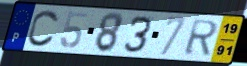3: (123, 15, 154, 54)
5: (59, 10, 90, 49)
7: (158, 15, 190, 58)
8: (94, 10, 125, 54)
C: (27, 8, 62, 49)
R: (183, 19, 220, 57)
